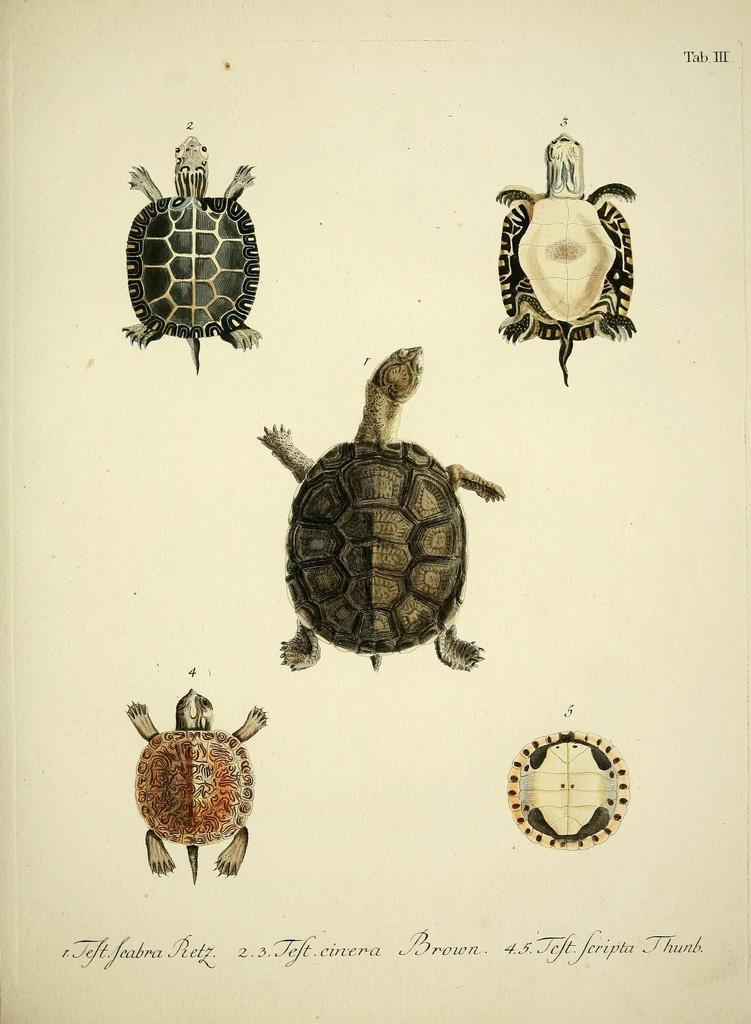Sea turtles: (252, 343, 504, 677), (486, 129, 642, 383), (119, 122, 262, 373), (119, 680, 271, 885)
